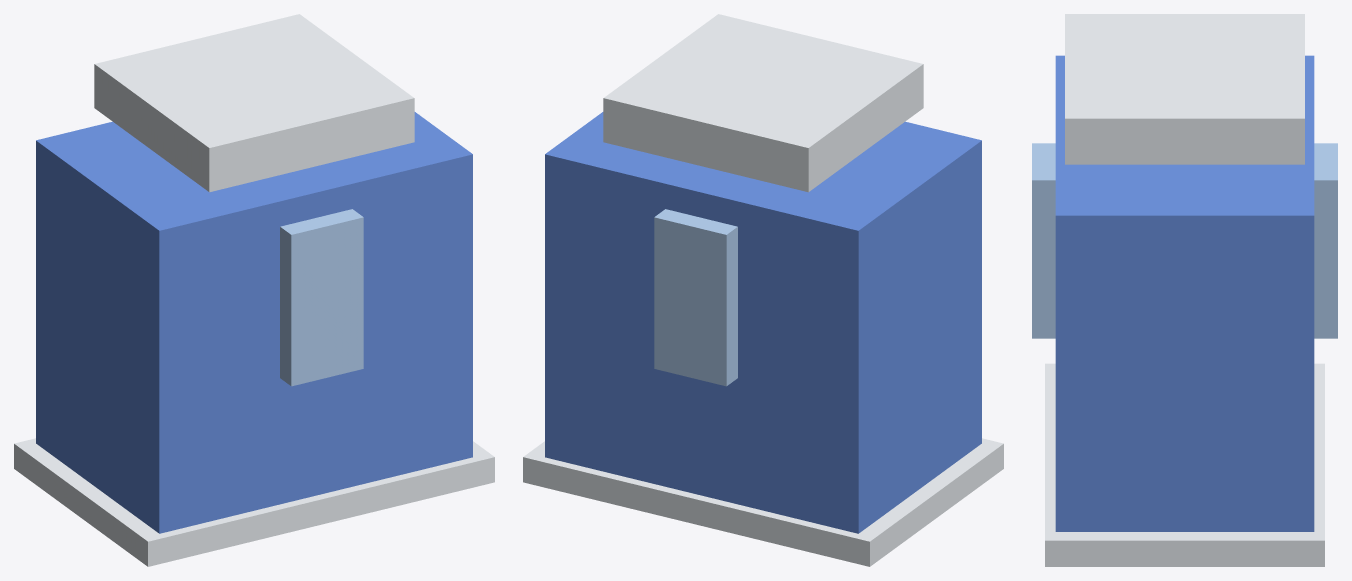
The model's file is patinador_tronco.glb.
3 renders of one model, left to right at view 1: azimuth 30°, elevation 25°; view 2: azimuth 150°, elevation 25°; view 3: azimuth 270°, elevation 25°, orthographic. The views are drawn at different scales.
Visible parts, largest first — view 1: patinador_tronco; view 2: patinador_tronco; view 3: patinador_tronco.
Boxes of the visible parts, left/top/right/bottom form: patinador_tronco: left=14, top=14, right=494, bottom=566; patinador_tronco: left=523, top=14, right=1003, bottom=566; patinador_tronco: left=1032, top=14, right=1337, bottom=566.
Size of the model in its own units: 0.575 by 0.625 by 0.42.
